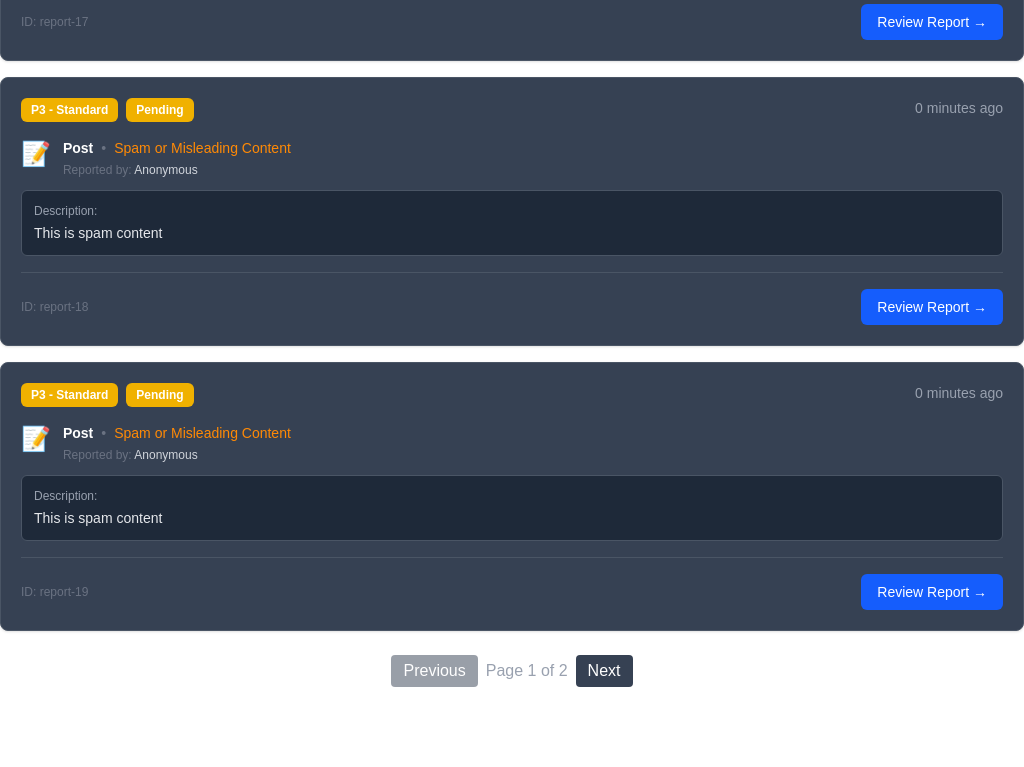
Test case: ModerationQueue › Pagination › should navigate to previous page
The width and height of the screenshot is (1024, 767).
(page scrolled)
Check: the text "Page 1 of 2" is shown, box x1=486 y1=659 x2=568 y2=683
Note: Go to page 2
Click the button "Next": (604, 671) x1=576 y1=655 x2=632 y2=687
(page scrolled)
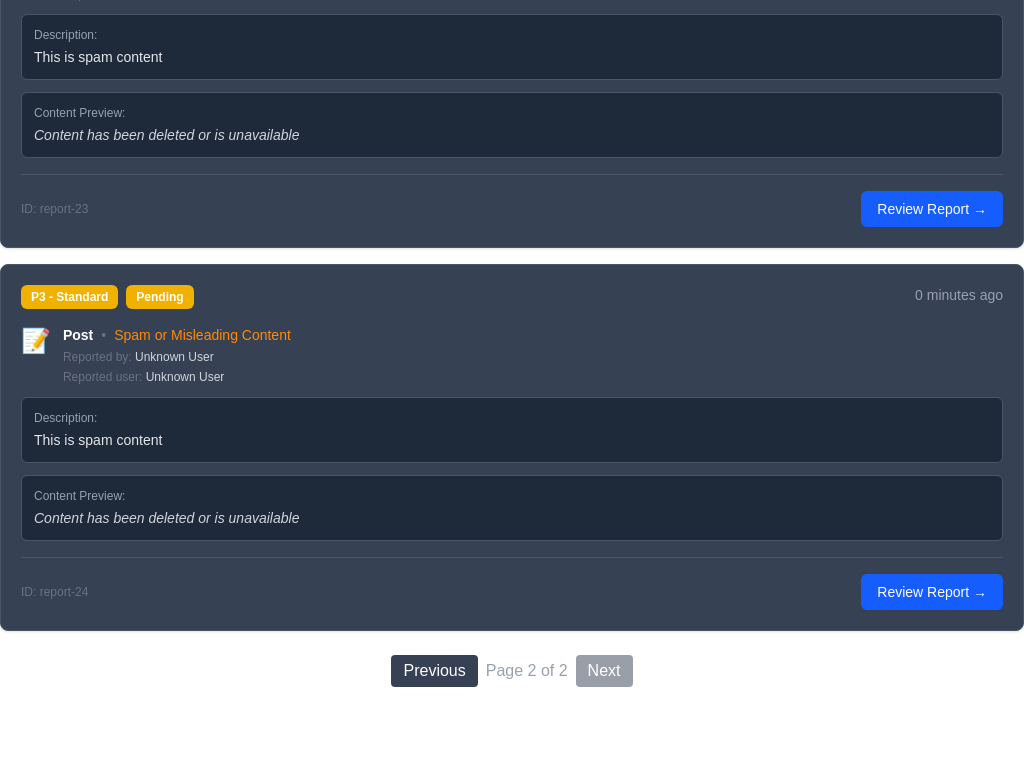
Check: the text "Page 2 of 2" is shown, box x1=486 y1=659 x2=568 y2=683
Note: Go back to page 1
Click the button "Previous": (435, 671) x1=392 y1=655 x2=478 y2=687
(page scrolled)
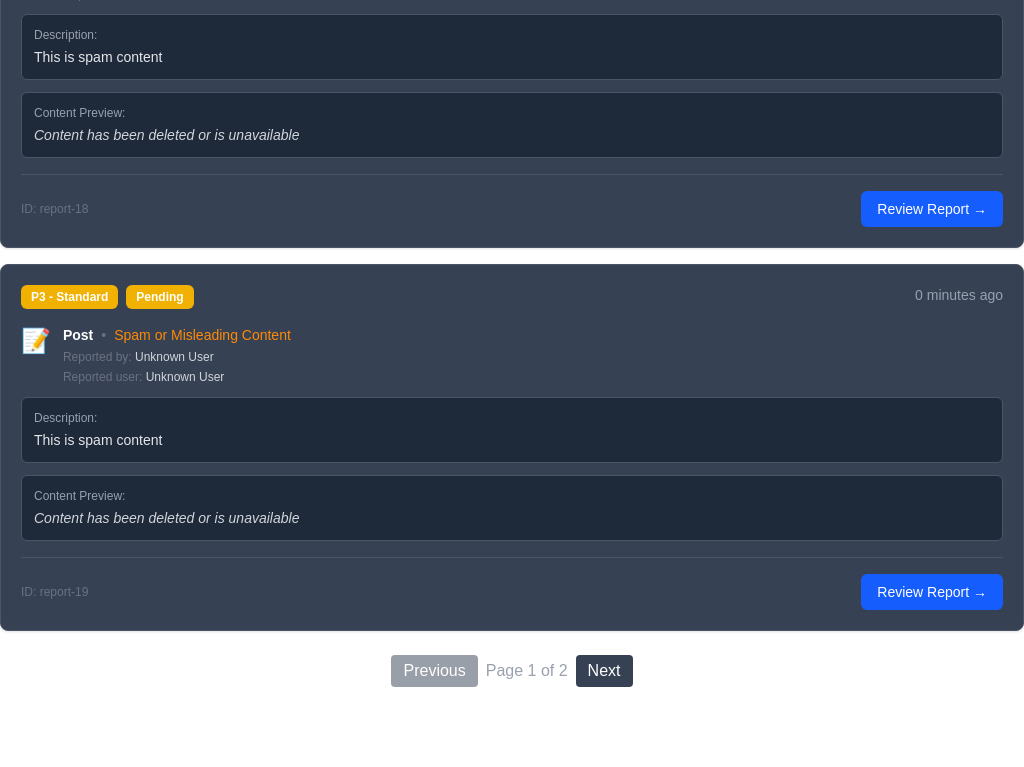
Check: the text "Page 1 of 2" is shown, box x1=486 y1=659 x2=568 y2=683
